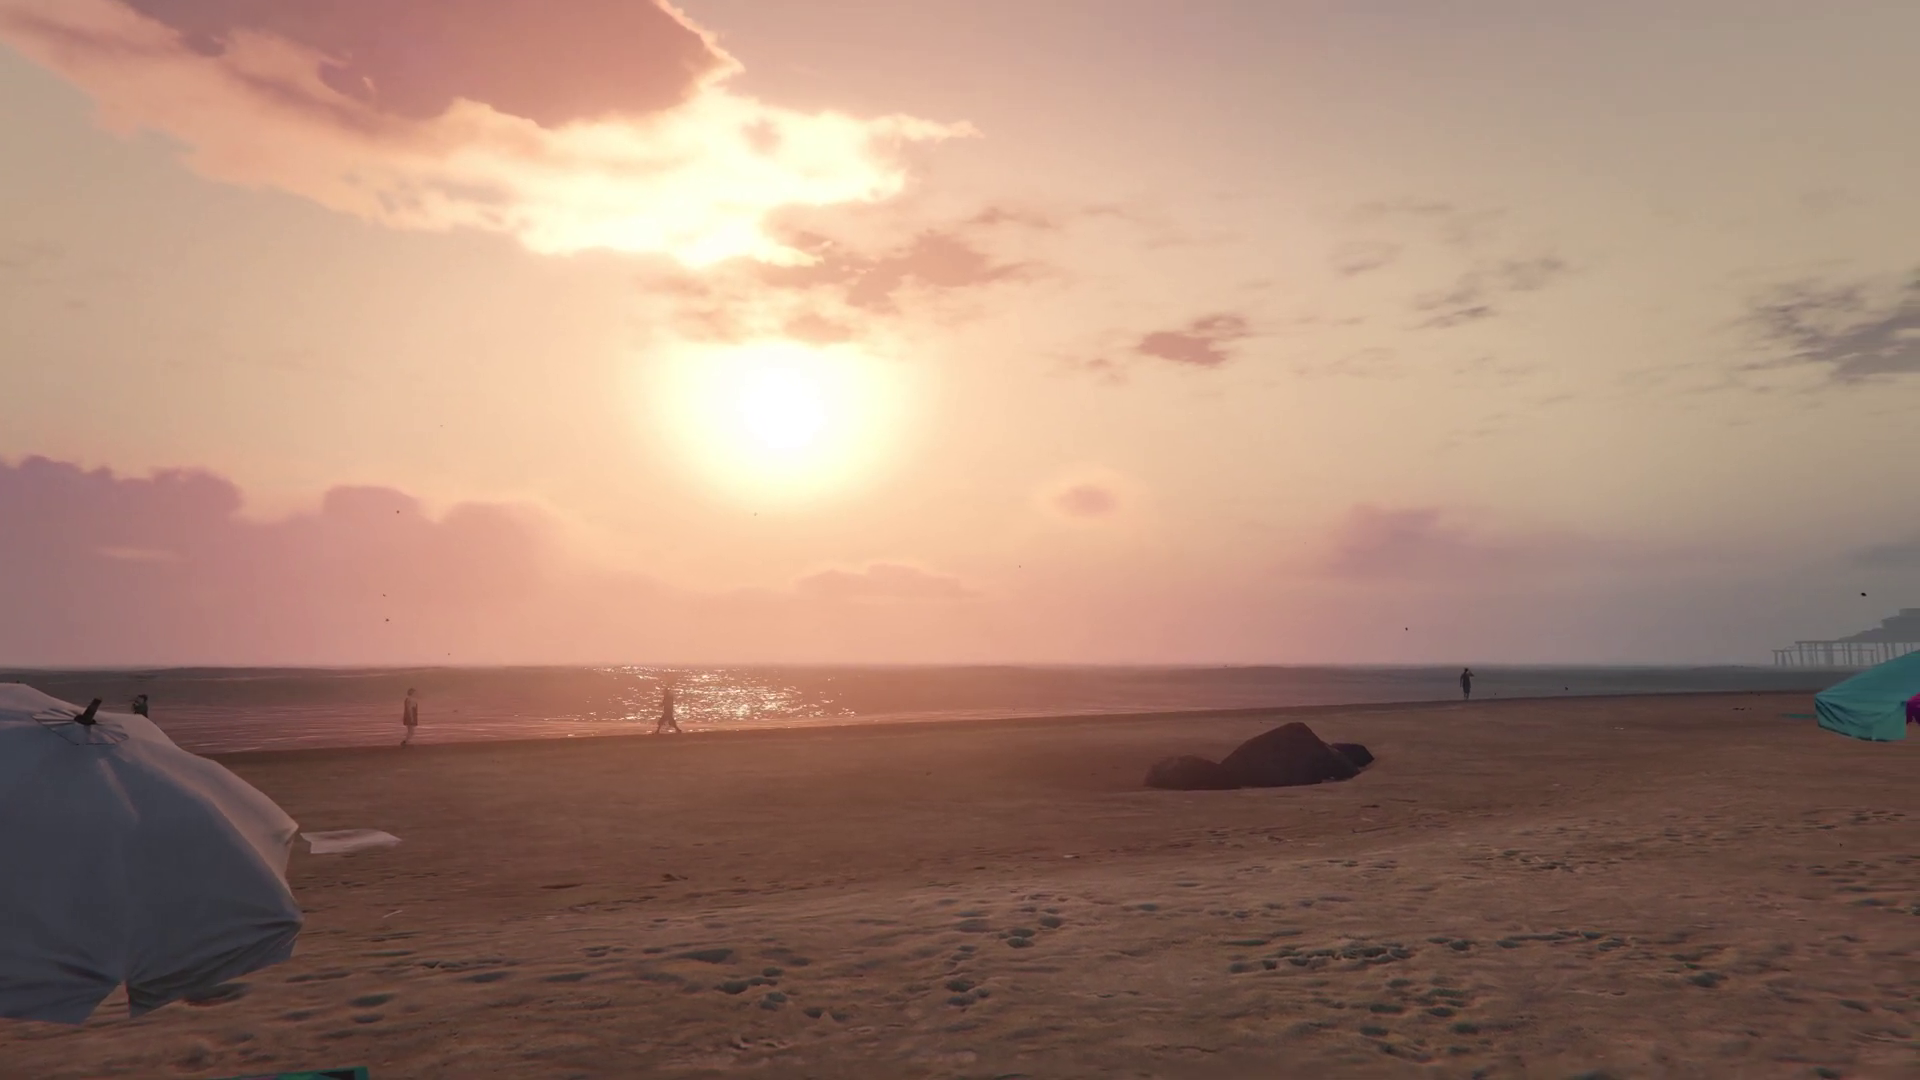person: (653, 687, 684, 734), (401, 686, 422, 751), (1458, 668, 1474, 702)
